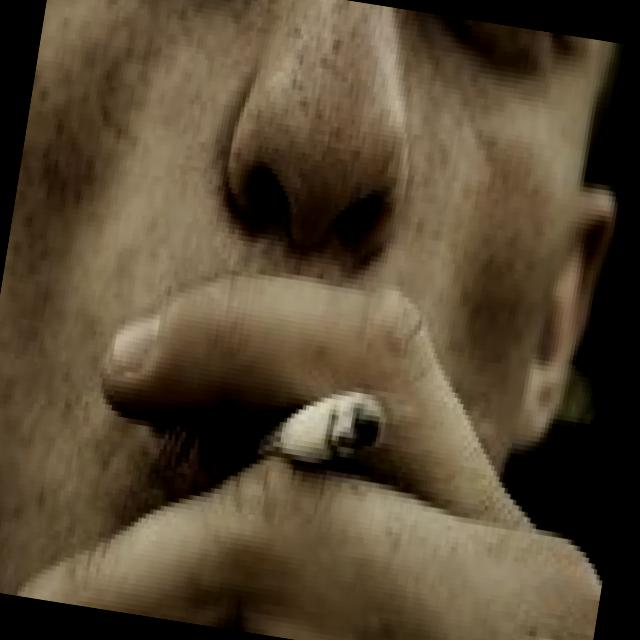smoke: (278, 378, 384, 470)
